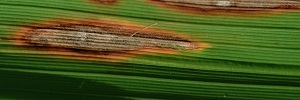RiceBlast: (15, 13, 209, 64), (146, 1, 299, 14)
